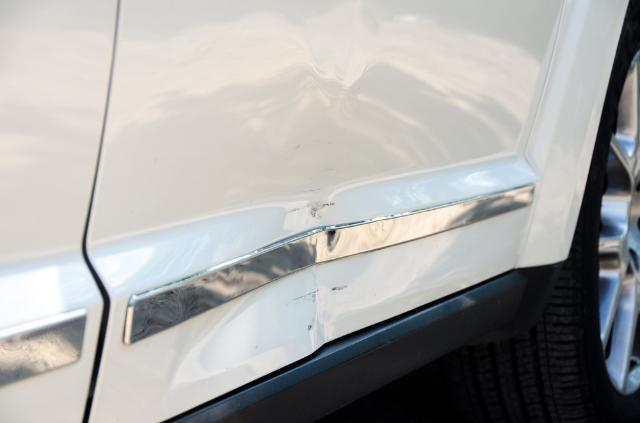dent: (145, 66, 504, 233), (172, 226, 467, 389)
